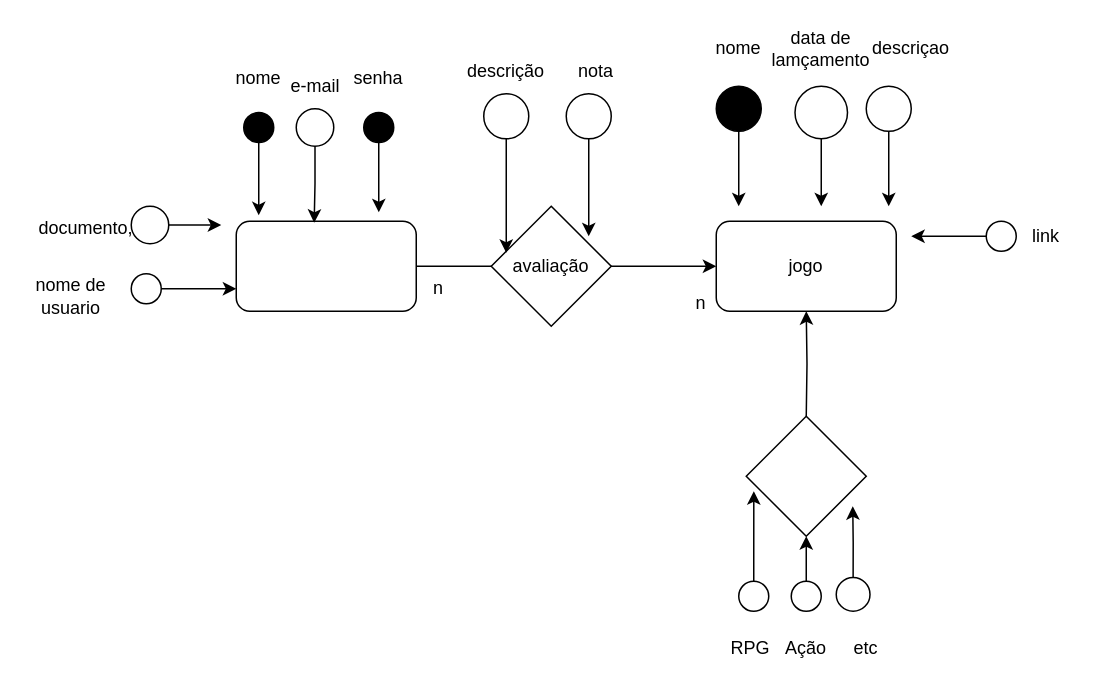
Image size: 1116x696. Some labels were removed from this diagram. The centre of each missing label's shape, as x and y in pixels:
generos: the point at 805,475
usuario: the point at 325,265
